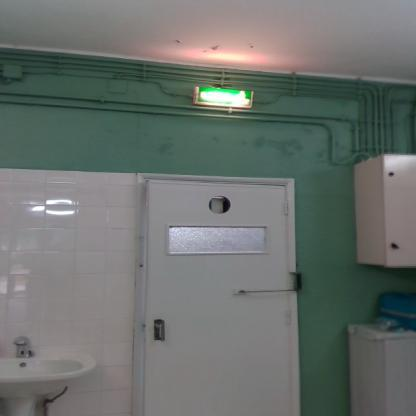door: (146, 182, 292, 416)
hinged: (284, 308, 293, 325), (283, 201, 290, 216)
